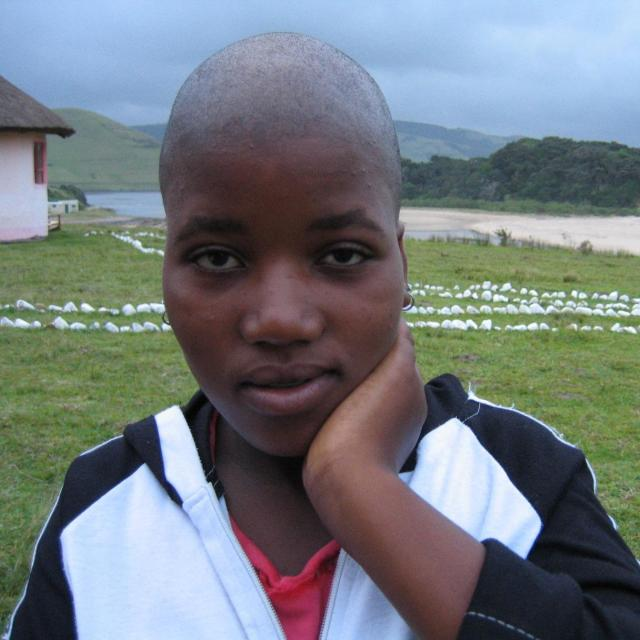no-glass: (170, 240, 382, 282)
